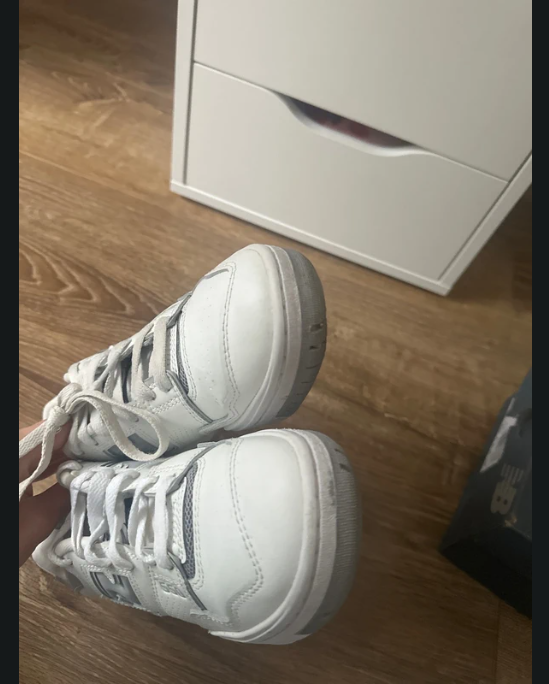new_balance_550_grey: (46, 427, 361, 650), (41, 241, 330, 470)
